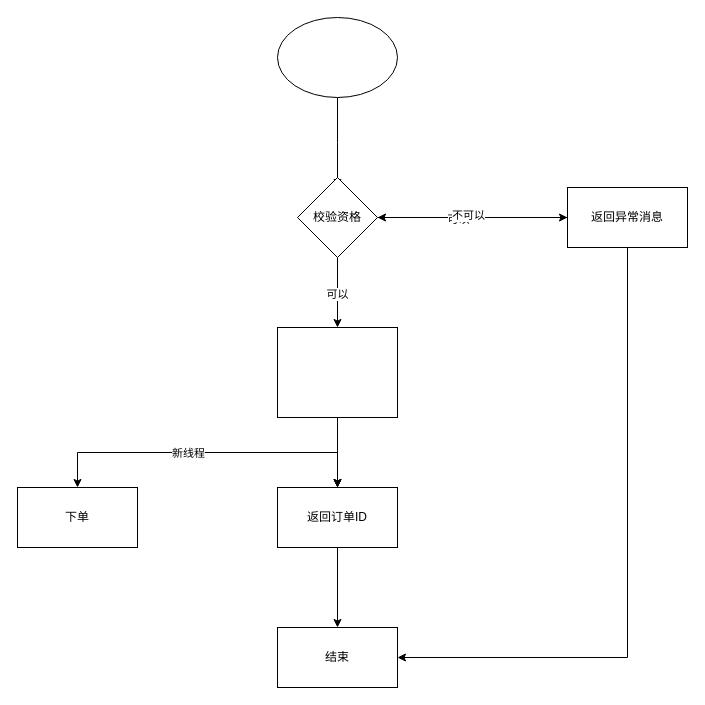
This 705x705 diagram has some shape labels left out. The shapes that lost their labels are listed below. From the top down, each one's box as (x1, y1, x2, y2) in pixels, then its label:
(276, 16, 398, 98): 开始
(276, 326, 398, 418): 生成订单号 放入队列： 用户ID， 券ID， 订单号
